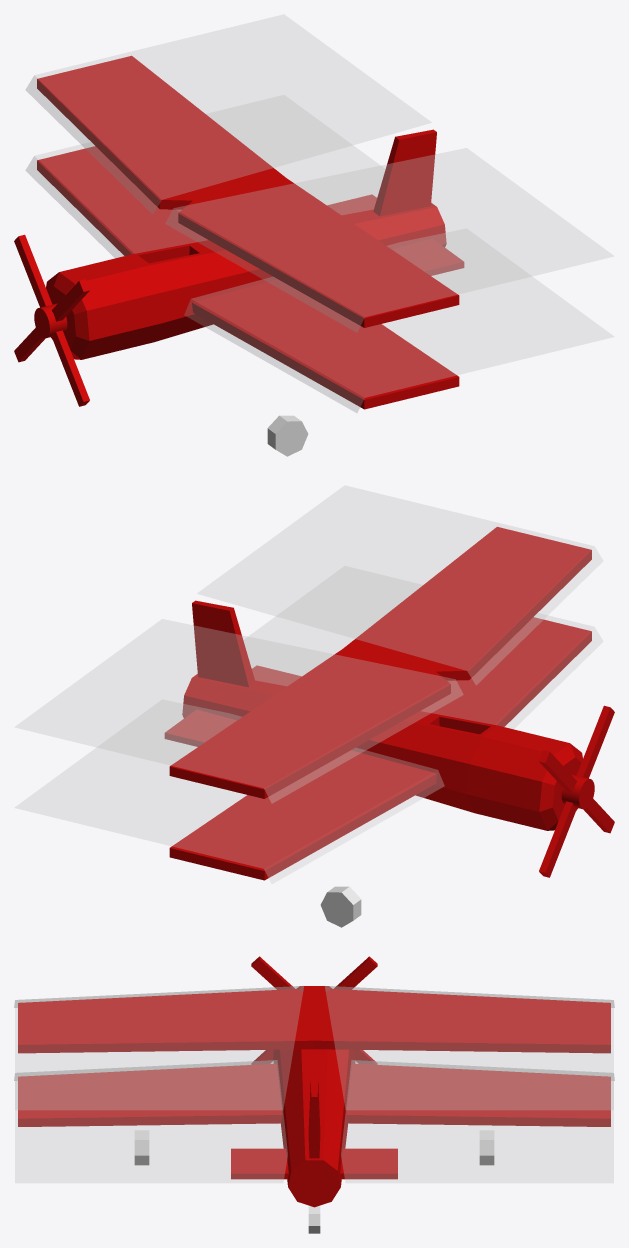
File: chopwit.fbx
The picture shows the model from 3 angles, top to bottom: view 1: azimuth 30°, elevation 25°; view 2: azimuth 150°, elevation 25°; view 3: azimuth 270°, elevation 25°; orthographic projection. The views are drawn at different scales.
Visible parts, largest first — view 1: waterVapor, Cube_1, Cube, Cylinder, elevator, Cube_3, wheel_2, Cube_2, Cylinder_1; view 2: waterVapor, Cube_1, Cube, Cylinder, elevator, Cube_2, wheel, Cube_3, Cylinder_1; view 3: waterVapor, Cube_1, Cube, Cylinder, elevator, Cube_3, Cube_2, wheel, wheel_2.
Boxes of the visible parts, x1=… form: waterVapor: x1=25, y1=14, x2=613, y2=412; Cube_1: x1=37, y1=56, x2=459, y2=327; Cube: x1=37, y1=146, x2=459, y2=409; Cylinder: x1=46, y1=129, x2=446, y2=359; elevator: x1=327, y1=194, x2=463, y2=275; Cube_3: x1=14, y1=234, x2=89, y2=406; wheel_2: x1=267, y1=415, x2=308, y2=456; Cube_2: x1=14, y1=279, x2=89, y2=362; Cylinder_1: x1=34, y1=303, x2=67, y2=338; waterVapor: x1=15, y1=485, x2=603, y2=883; Cube_1: x1=169, y1=527, x2=591, y2=798; Cube: x1=169, y1=617, x2=591, y2=880; Cylinder: x1=182, y1=600, x2=582, y2=830; elevator: x1=165, y1=665, x2=301, y2=746; Cube_2: x1=539, y1=705, x2=614, y2=877; wheel: x1=320, y1=886, x2=361, y2=927; Cube_3: x1=539, y1=750, x2=614, y2=833; Cylinder_1: x1=561, y1=774, x2=594, y2=809; waterVapor: x1=14, y1=986, x2=614, y2=1182; Cube_1: x1=18, y1=989, x2=610, y2=1053; Cube: x1=18, y1=1064, x2=610, y2=1126; Cylinder: x1=273, y1=986, x2=355, y2=1207; elevator: x1=231, y1=1148, x2=397, y2=1179; Cube_3: x1=251, y1=956, x2=377, y2=1064; Cube_2: x1=251, y1=956, x2=377, y2=1064; wheel: x1=479, y1=1130, x2=494, y2=1165; wheel_2: x1=134, y1=1130, x2=149, y2=1165.
Bounding box in the file's own units: 511 × 233 × 721.
